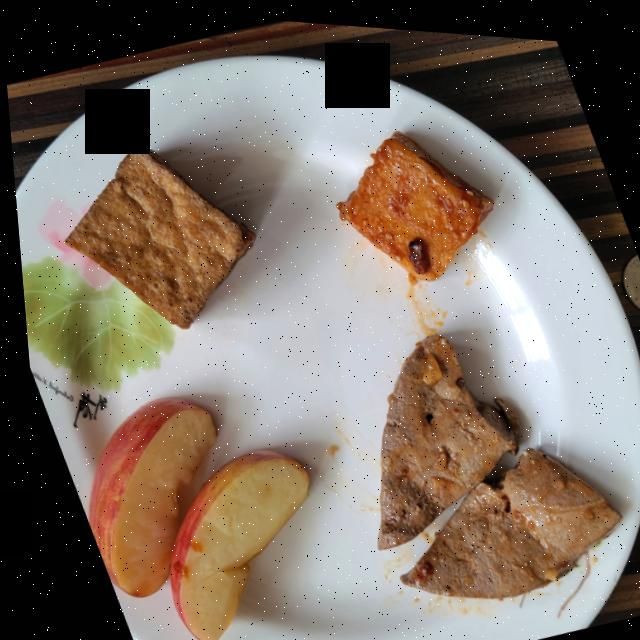apple -sliced-: (79, 394, 301, 640)
coin: (618, 243, 640, 301)
creamy tofu: (333, 124, 490, 273)
egg tofu: (59, 142, 251, 325)
pig liver: (368, 327, 611, 590)
